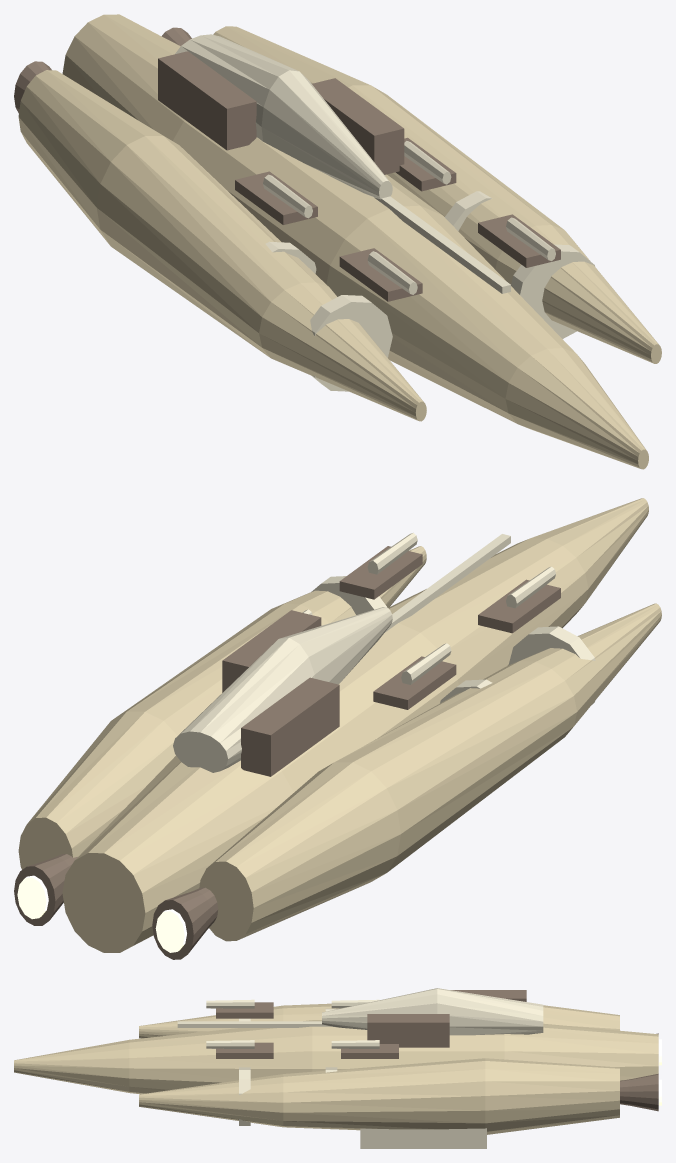
The picture shows the model from 3 angles, top to bottom: view 1: azimuth 30°, elevation 25°; view 2: azimuth 150°, elevation 25°; view 3: azimuth 270°, elevation 25°; orthographic projection. The views are drawn at different scales.
Size of the model in its own units: 6.4 by 3.84 by 18.89.
